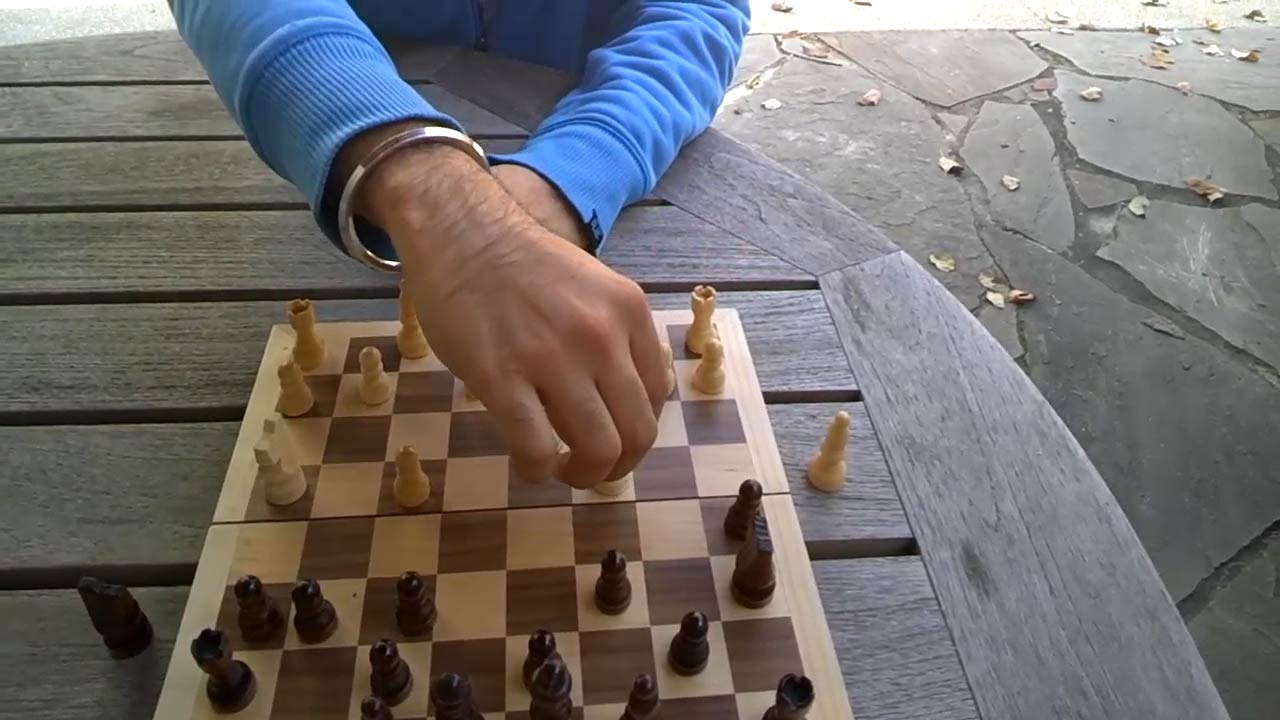hand: (401, 187, 662, 484), (497, 166, 586, 244)
